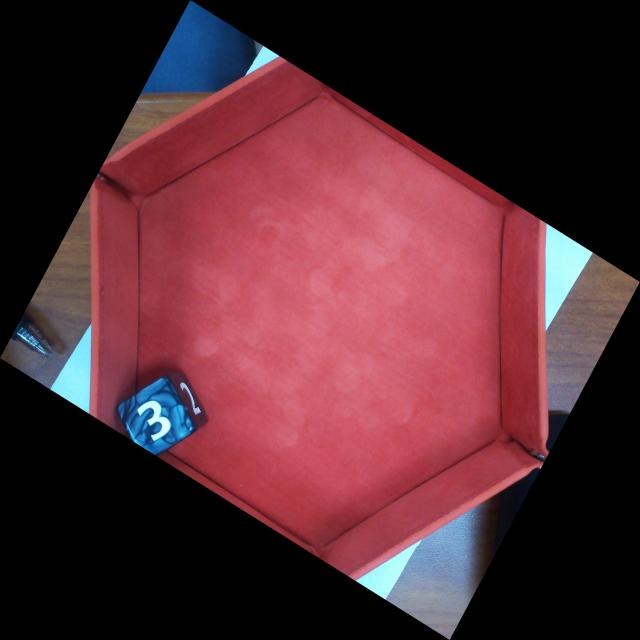dice: (113, 374, 200, 467)
